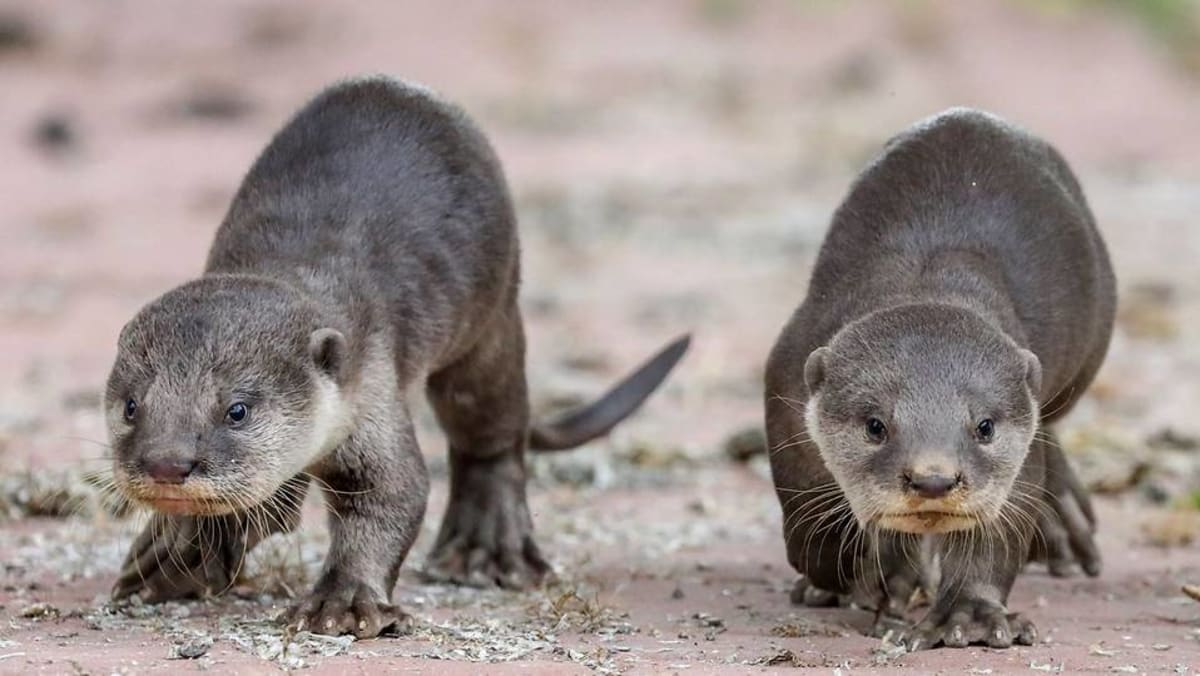otter: (95, 62, 699, 651), (754, 93, 1127, 662)
